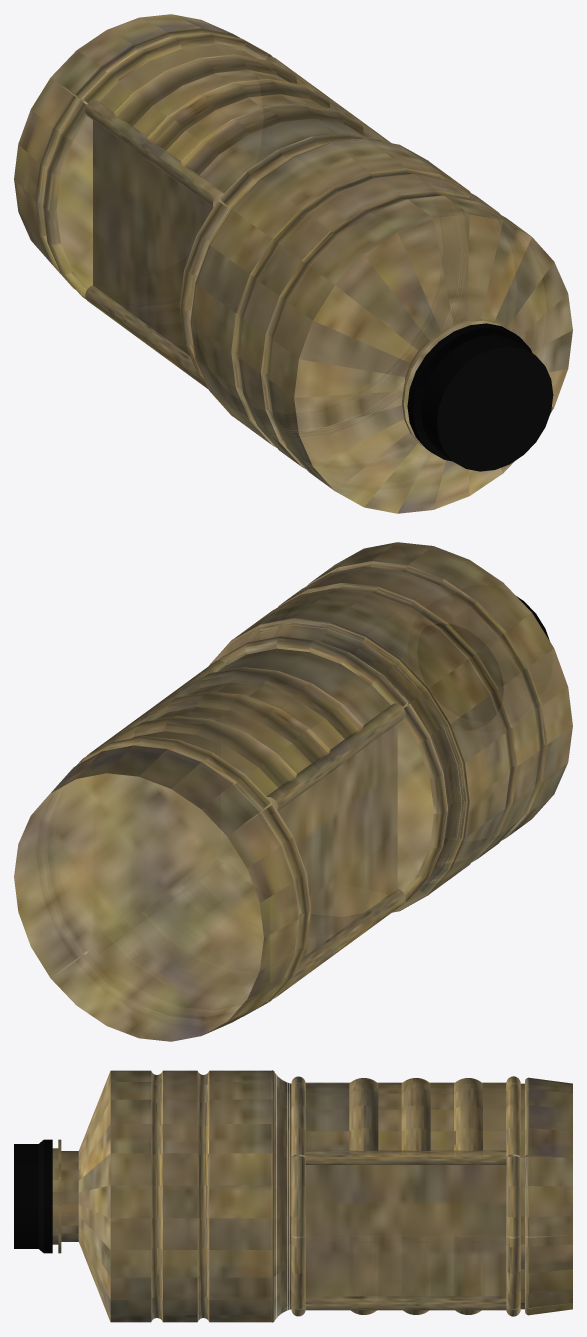
File: model_scale.obj
3 views of the same model, one above another, from view 1: azimuth 30°, elevation 25°; view 2: azimuth 150°, elevation 25°; view 3: azimuth 270°, elevation 25° (orthographic). The views are drawn at different scales.
Visible parts, largest first — view 1: mesh2_mesh2-geometry, mesh1_mesh1-geometry; view 2: mesh1_mesh1-geometry, mesh2_mesh2-geometry, mesh4_mesh4-geometry, mesh3_mesh3-geometry; view 3: mesh1_mesh1-geometry, mesh2_mesh2-geometry, mesh4_mesh4-geometry, mesh3_mesh3-geometry, mesh5_mesh5-geometry.
Boxes of the visible parts, x1,y1,x2,y2 form: mesh2_mesh2-geometry: (190,138,572,513); mesh1_mesh1-geometry: (14,14,391,389); mesh1_mesh1-geometry: (14,636,447,1041); mesh2_mesh2-geometry: (209,542,572,912); mesh4_mesh4-geometry: (226,625,461,898); mesh3_mesh3-geometry: (221,623,463,904); mesh1_mesh1-geometry: (289,1076,572,1316); mesh2_mesh2-geometry: (14,1070,275,1322); mesh4_mesh4-geometry: (277,1075,287,1317); mesh3_mesh3-geometry: (275,1074,276,1318); mesh5_mesh5-geometry: (288,1083,289,1309).
Bounding box in the file's own units: 0.1123 × 0.1123 × 0.2482.
